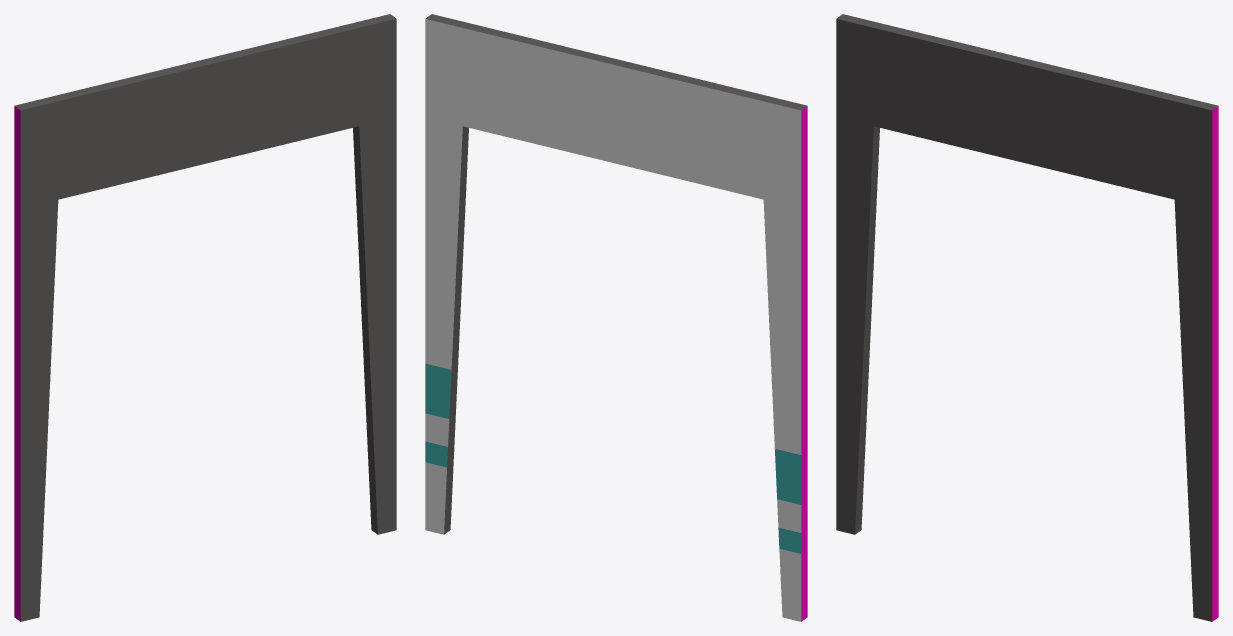
Rendered from double_door_hole.gltf.
The picture shows the model from 3 angles, left to right: view 1: azimuth 30°, elevation 25°; view 2: azimuth 150°, elevation 25°; view 3: azimuth 330°, elevation 25°; orthographic projection.
Parts seen in each view (by area): view 1: DoubleDoorHole; view 2: DoubleDoorHole; view 3: DoubleDoorHole.
Boxes of the visible parts, x1,y1,x2,y2 form: DoubleDoorHole: [14, 14, 396, 621]; DoubleDoorHole: [425, 14, 807, 621]; DoubleDoorHole: [836, 14, 1218, 621].
Size of the model in its own units: 2 by 2.6 by 0.06.
Materials: 3 (1 with a texture image).
